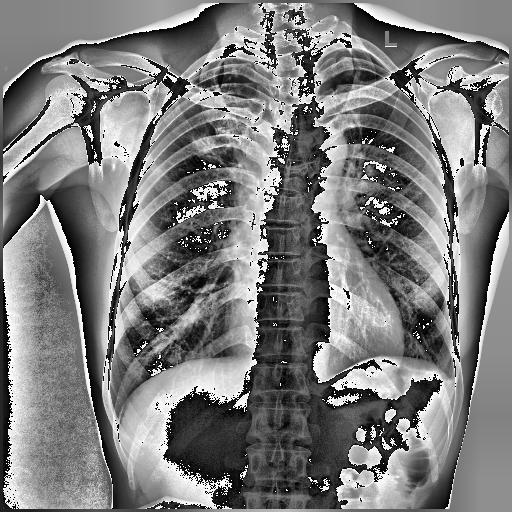0- Aortic enlargement: (298, 125, 348, 176)
10- Pleural effusion: (442, 370, 456, 387), (446, 372, 456, 386)
11- Pleural thickening: (318, 48, 345, 69), (442, 370, 456, 387), (446, 372, 456, 386)
13- Pulmonary fibrosis: (182, 129, 240, 166), (180, 129, 234, 166), (364, 162, 402, 188), (194, 131, 223, 157), (365, 164, 379, 176)
8- Nodule-Mass: (194, 131, 223, 157), (229, 68, 238, 80)
9- Other lesion: (260, 46, 316, 218), (365, 164, 379, 176)
